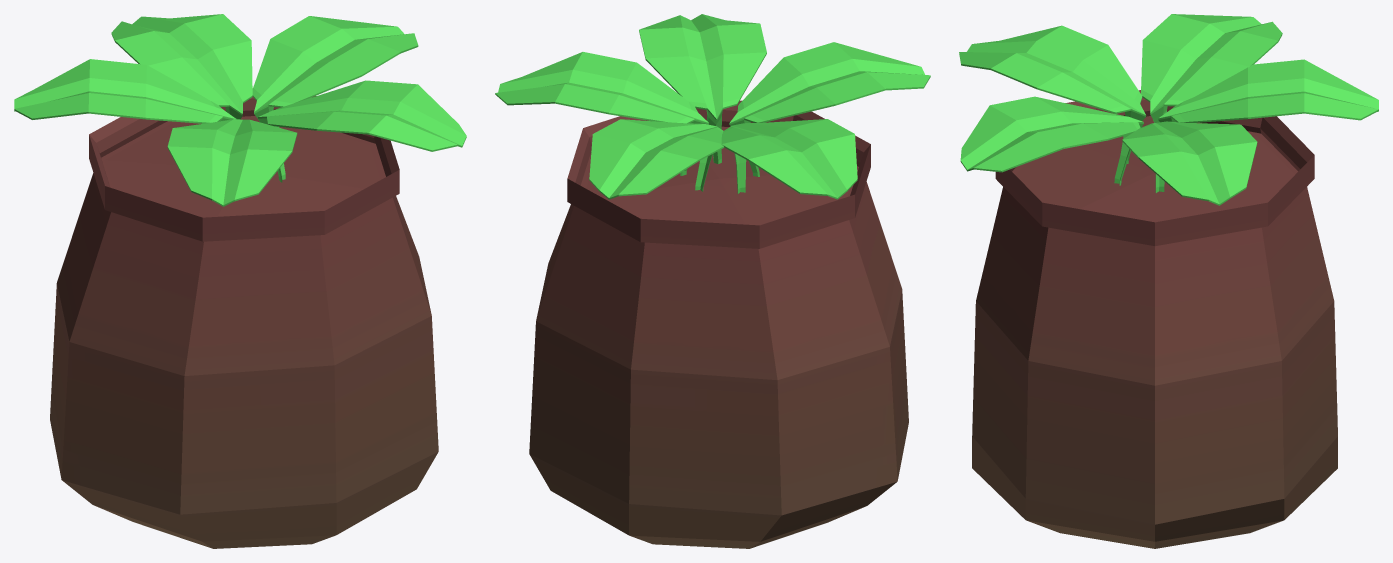
The model's file is PotBungaREV2.fbx.
The picture shows the model from 3 angles, left to right: view 1: azimuth 30°, elevation 25°; view 2: azimuth 150°, elevation 25°; view 3: azimuth 270°, elevation 25°; orthographic projection. The views are drawn at different scales.
Visible parts, largest first — view 1: FlowerPot.001; view 2: FlowerPot.001; view 3: FlowerPot.001.
Part boxes in pixels (left/top/right/bottom): FlowerPot.001: left=14, top=14, right=466, bottom=548; FlowerPot.001: left=495, top=14, right=930, bottom=548; FlowerPot.001: left=959, top=14, right=1378, bottom=548.
Size of the model in its own units: 52.36 by 54.34 by 50.48.
Materials: 2 (1 with a texture image).
